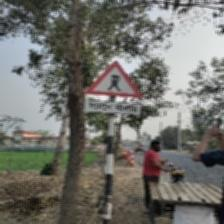Market-in-front: (85, 60, 142, 119)
